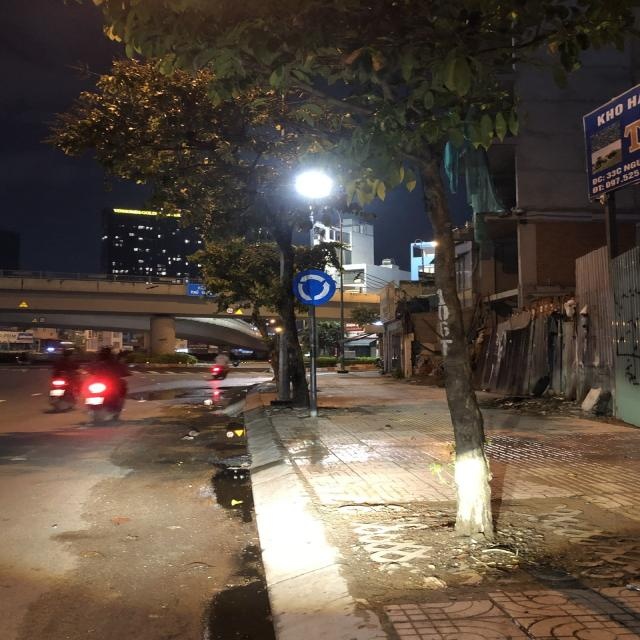Bien bao noi giao nhau chay theo vong xuyen: (288, 266, 340, 308)
